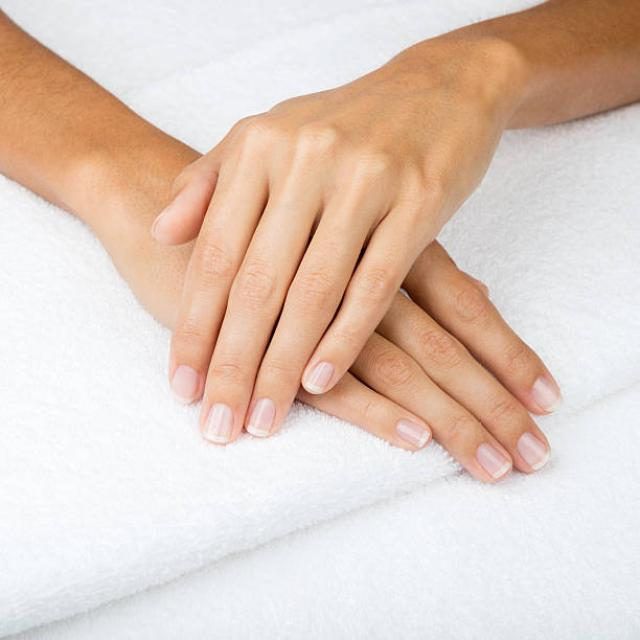Nail: (202, 402, 234, 444), (516, 432, 550, 470), (476, 444, 511, 479), (246, 398, 276, 438), (530, 376, 561, 414), (171, 365, 200, 402), (395, 419, 430, 448), (305, 361, 334, 394)
